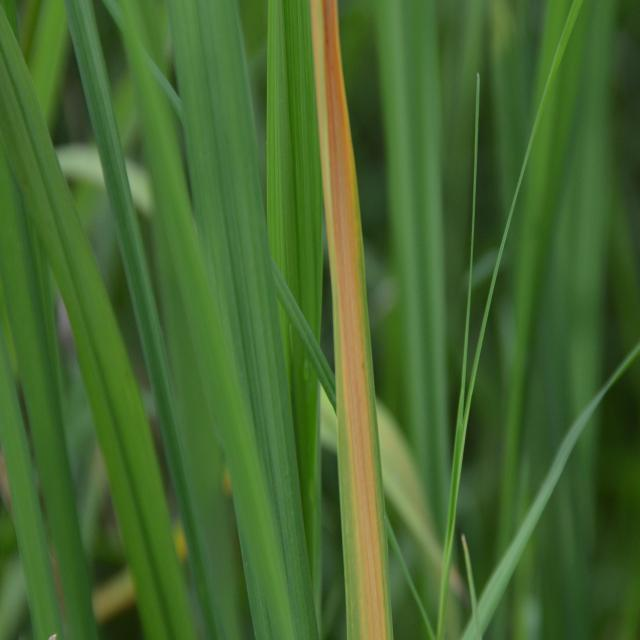Rice Tungro: (290, 0, 403, 636)
